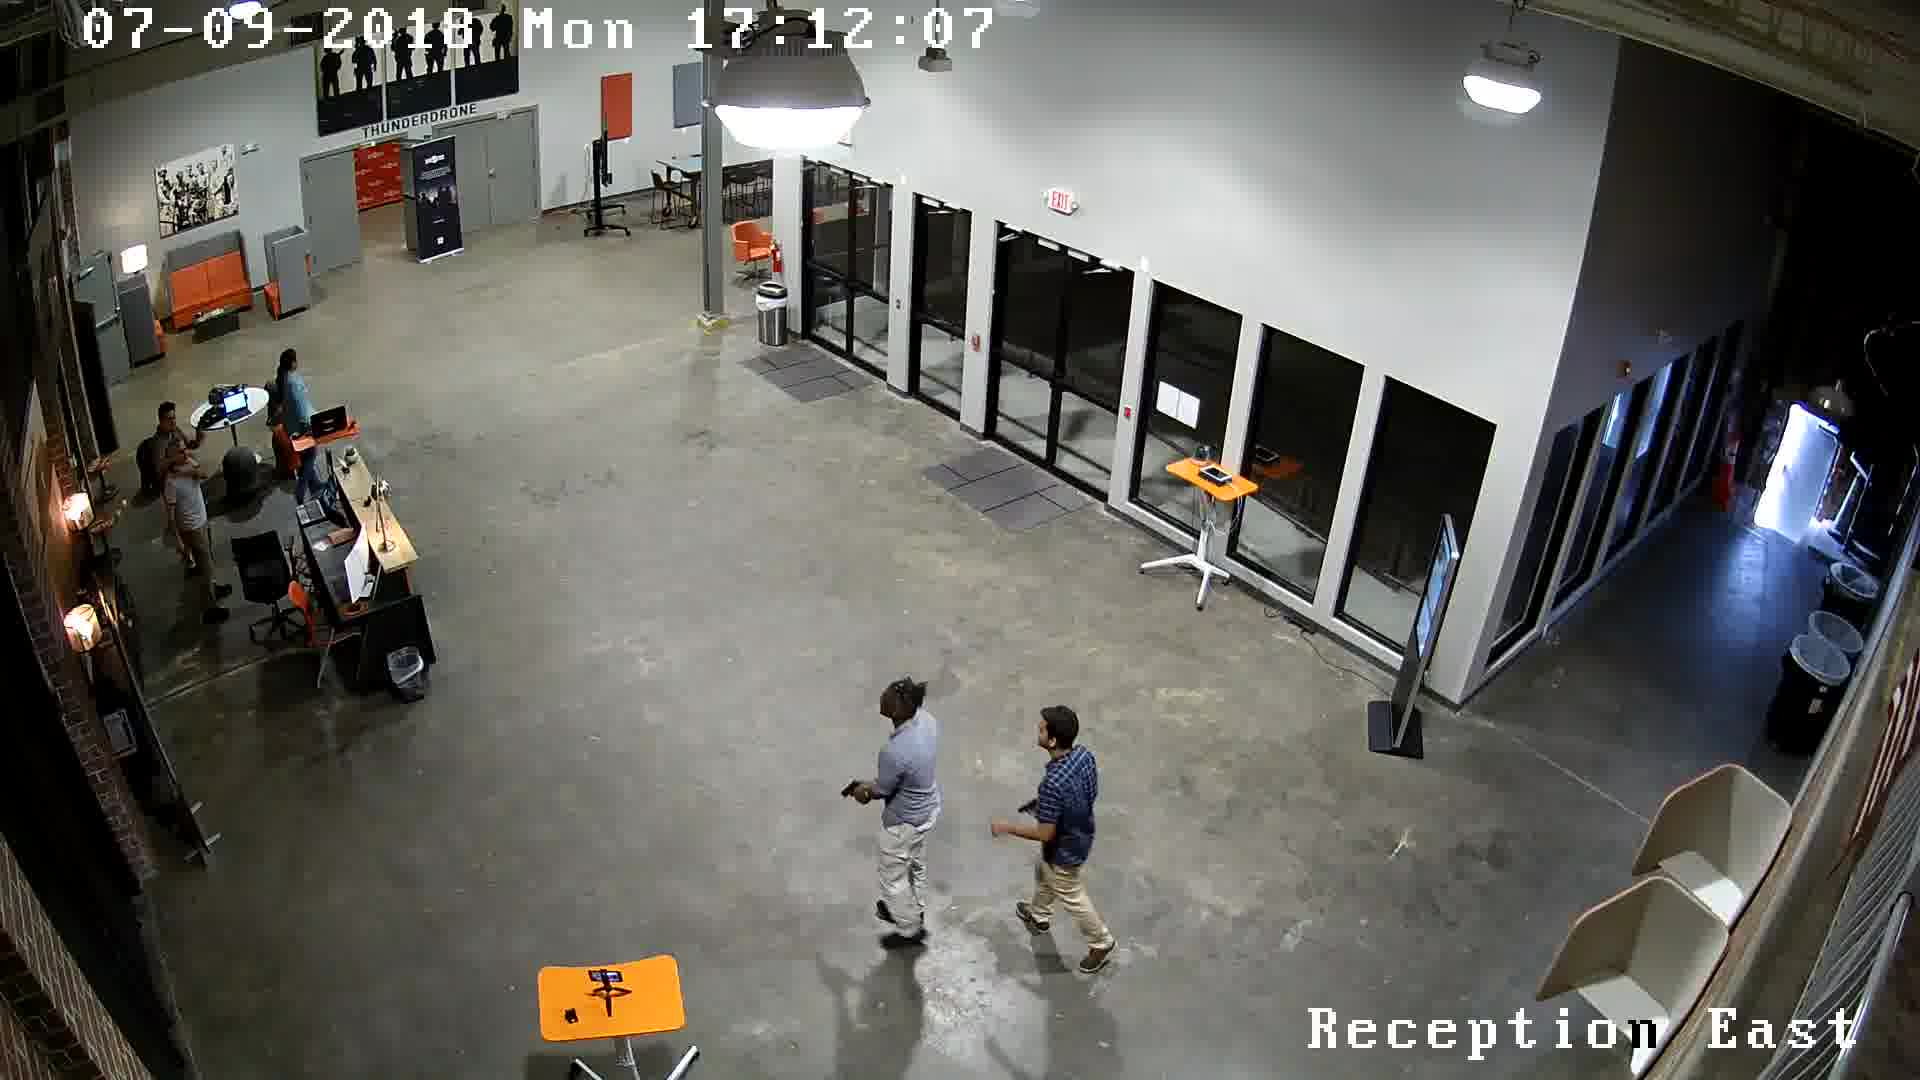pistol: (823, 775, 873, 816), (1010, 789, 1044, 824)
